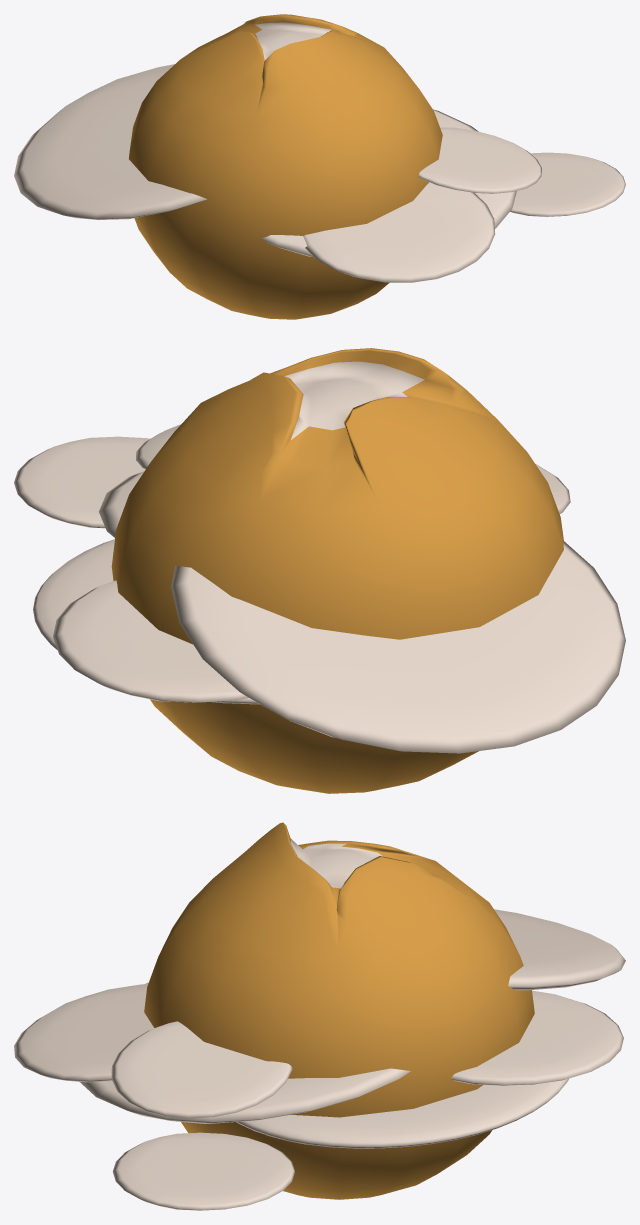
File: onion_Obj.fbx
3 views of the same model, one above another, from view 1: azimuth 30°, elevation 25°; view 2: azimuth 150°, elevation 25°; view 3: azimuth 270°, elevation 25° (orthographic). The views are drawn at different scales.
Parts seen in each view (by area): view 1: onion, goe_sliced_onion2, goe_sliced_onion4, goe_sliced_onion5, goe_sliced_onion6, goe_sliced_onion1; view 2: onion, goe_sliced_onion2, goe_sliced_onion3, goe_sliced_onion6, goe_sliced_onion, goe_sliced_onion1, goe_sliced_onion5, goe_sliced_onion4; view 3: onion, goe_sliced_onion5, goe_sliced_onion6, goe_sliced_onion, goe_sliced_onion4, goe_sliced_onion3, goe_sliced_onion2, goe_sliced_onion1.
Part boxes in pixels (left/top/right/bottom): onion: left=128, top=14, right=442, bottom=319; goe_sliced_onion2: left=14, top=64, right=206, bottom=219; goe_sliced_onion4: left=303, top=182, right=495, bottom=282; goe_sliced_onion5: left=418, top=127, right=541, bottom=193; goe_sliced_onion6: left=510, top=152, right=625, bottom=216; goe_sliced_onion1: left=260, top=109, right=516, bottom=257; onion: left=111, top=348, right=563, bottom=793; goe_sliced_onion2: left=171, top=541, right=625, bottom=753; goe_sliced_onion3: left=53, top=580, right=248, bottom=702; goe_sliced_onion6: left=14, top=436, right=150, bottom=528; goe_sliced_onion: left=33, top=539, right=259, bottom=704; goe_sliced_onion1: left=99, top=471, right=144, bottom=537; goe_sliced_onion5: left=136, top=424, right=180, bottom=468; goe_sliced_onion4: left=535, top=464, right=570, bottom=513; onion: left=144, top=822, right=534, bottom=1199; goe_sliced_onion5: left=111, top=1021, right=292, bottom=1118; goe_sliced_onion6: left=112, top=1132, right=294, bottom=1210; goe_sliced_onion: left=236, top=1078, right=569, bottom=1148; goe_sliced_onion4: left=14, top=984, right=153, bottom=1082; goe_sliced_onion3: left=450, top=990, right=623, bottom=1085; goe_sliced_onion2: left=494, top=909, right=625, bottom=990; goe_sliced_onion1: left=79, top=982, right=410, bottom=1123.
Bounding box in the file's own units: 58.96 × 32.45 × 52.9.
